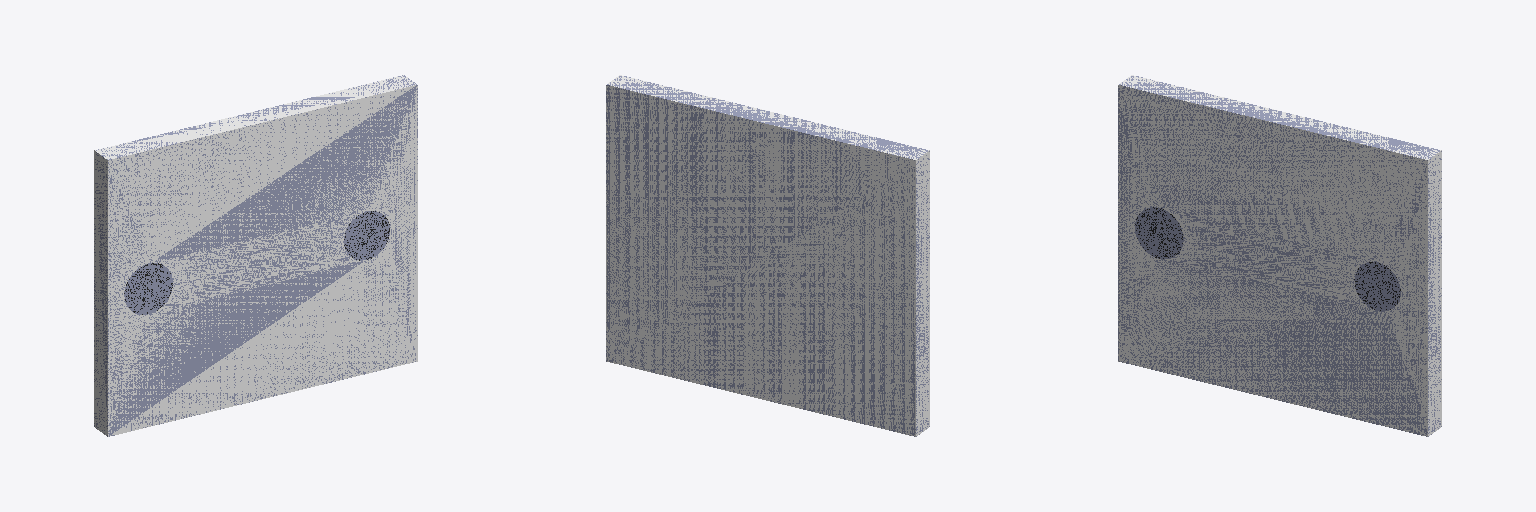
The model's file is original-1.obj.
3 renders of one model, left to right at view 1: azimuth 30°, elevation 25°; view 2: azimuth 150°, elevation 25°; view 3: azimuth 330°, elevation 25°, orthographic.
Visible parts, largest first — view 1: mesh1/mesh1-geometry#mesh1-geometry; view 2: mesh1/mesh1-geometry#mesh1-geometry; view 3: mesh1/mesh1-geometry#mesh1-geometry.
Part boxes in pixels (bbox=[...]): mesh1/mesh1-geometry#mesh1-geometry: bbox=[94, 75, 417, 436]; mesh1/mesh1-geometry#mesh1-geometry: bbox=[606, 75, 929, 436]; mesh1/mesh1-geometry#mesh1-geometry: bbox=[1118, 75, 1441, 436].
Size of the model in its own units: 1.52 by 1.3 by 0.1143.